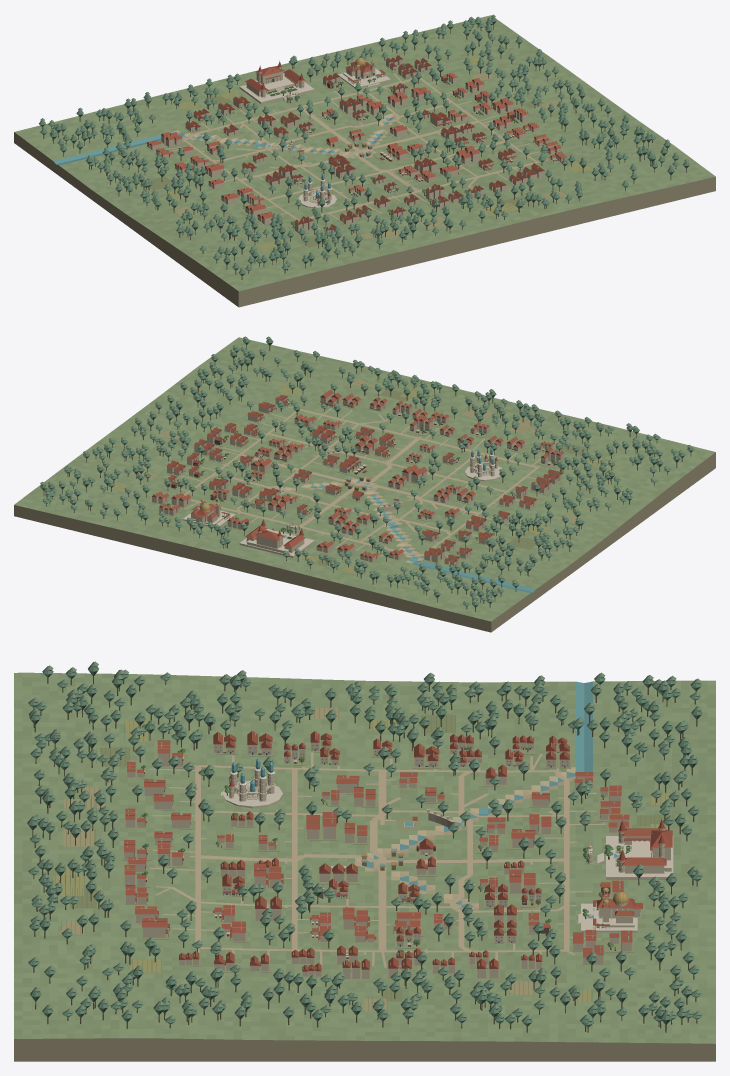
The model's file is assembled-town.glb.
The picture shows the model from 3 angles, top to bottom: view 1: azimuth 30°, elevation 25°; view 2: azimuth 150°, elevation 25°; view 3: azimuth 270°, elevation 25°; orthographic projection. The views are drawn at different scales.
Visible parts, largest first — view 1: terrain, trees, buildings, roofs, details, streets, farms, water; view 2: terrain, trees, buildings, roofs, details, streets, farms, water; view 3: terrain, trees, buildings, roofs, streets, details, farms, water.
Part boxes in pixels (x1,y1,x2,y2): terrain: (14, 15, 715, 307); trees: (39, 14, 689, 276); buildings: (145, 55, 566, 233); roofs: (147, 55, 567, 230); details: (42, 24, 686, 279); streets: (166, 73, 548, 229); farms: (149, 56, 592, 251); water: (53, 117, 393, 165); terrain: (14, 337, 715, 632); trees: (40, 336, 694, 607); buildings: (151, 391, 563, 566); roofs: (152, 389, 563, 562); details: (43, 345, 691, 611); streets: (179, 406, 540, 556); farms: (106, 378, 619, 574); water: (279, 479, 535, 593); terrain: (14, 672, 715, 1061); trees: (27, 661, 702, 1027); buildings: (122, 733, 633, 980); roofs: (124, 730, 672, 971); streets: (149, 752, 605, 967); details: (32, 676, 697, 1032); farms: (54, 707, 674, 1011); water: (365, 681, 592, 908).
Size of the model in its own units: 152 by 11.04 by 124.
